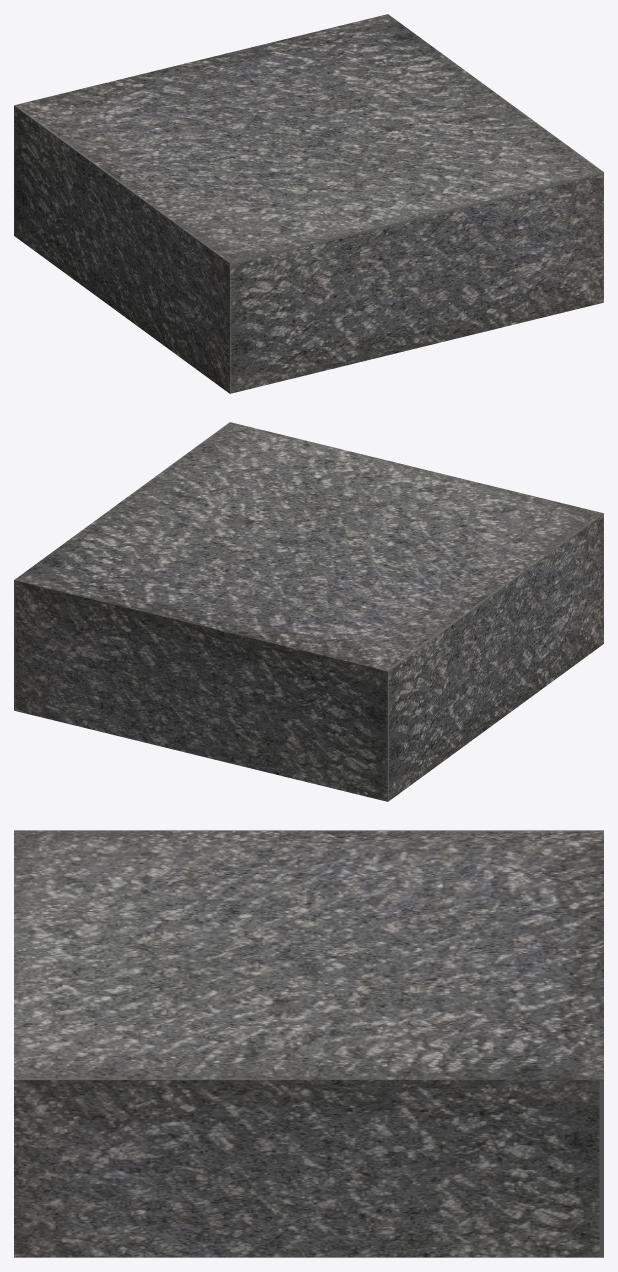
File: punzoneada2.glb
The picture shows the model from 3 angles, top to bottom: view 1: azimuth 30°, elevation 25°; view 2: azimuth 150°, elevation 25°; view 3: azimuth 270°, elevation 25°; orthographic projection. The views are drawn at different scales.
Parts seen in each view (by area): view 1: Cubo; view 2: Cubo; view 3: Cubo.
Boxes of the visible parts, x1,y1,x2,y2 form: Cubo: (14,14,603,393); Cubo: (14,422,603,801); Cubo: (14,830,603,1257).
Bounding box in the file's own units: 0.2 × 0.0667 × 0.2.
1 material, 1 textured.
